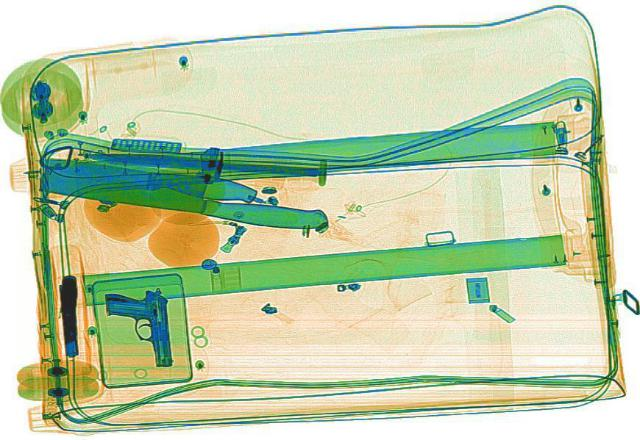Gun: (102, 287, 172, 366), (54, 272, 80, 355)
Knife: (34, 153, 336, 229), (32, 152, 260, 203), (88, 147, 316, 178)
